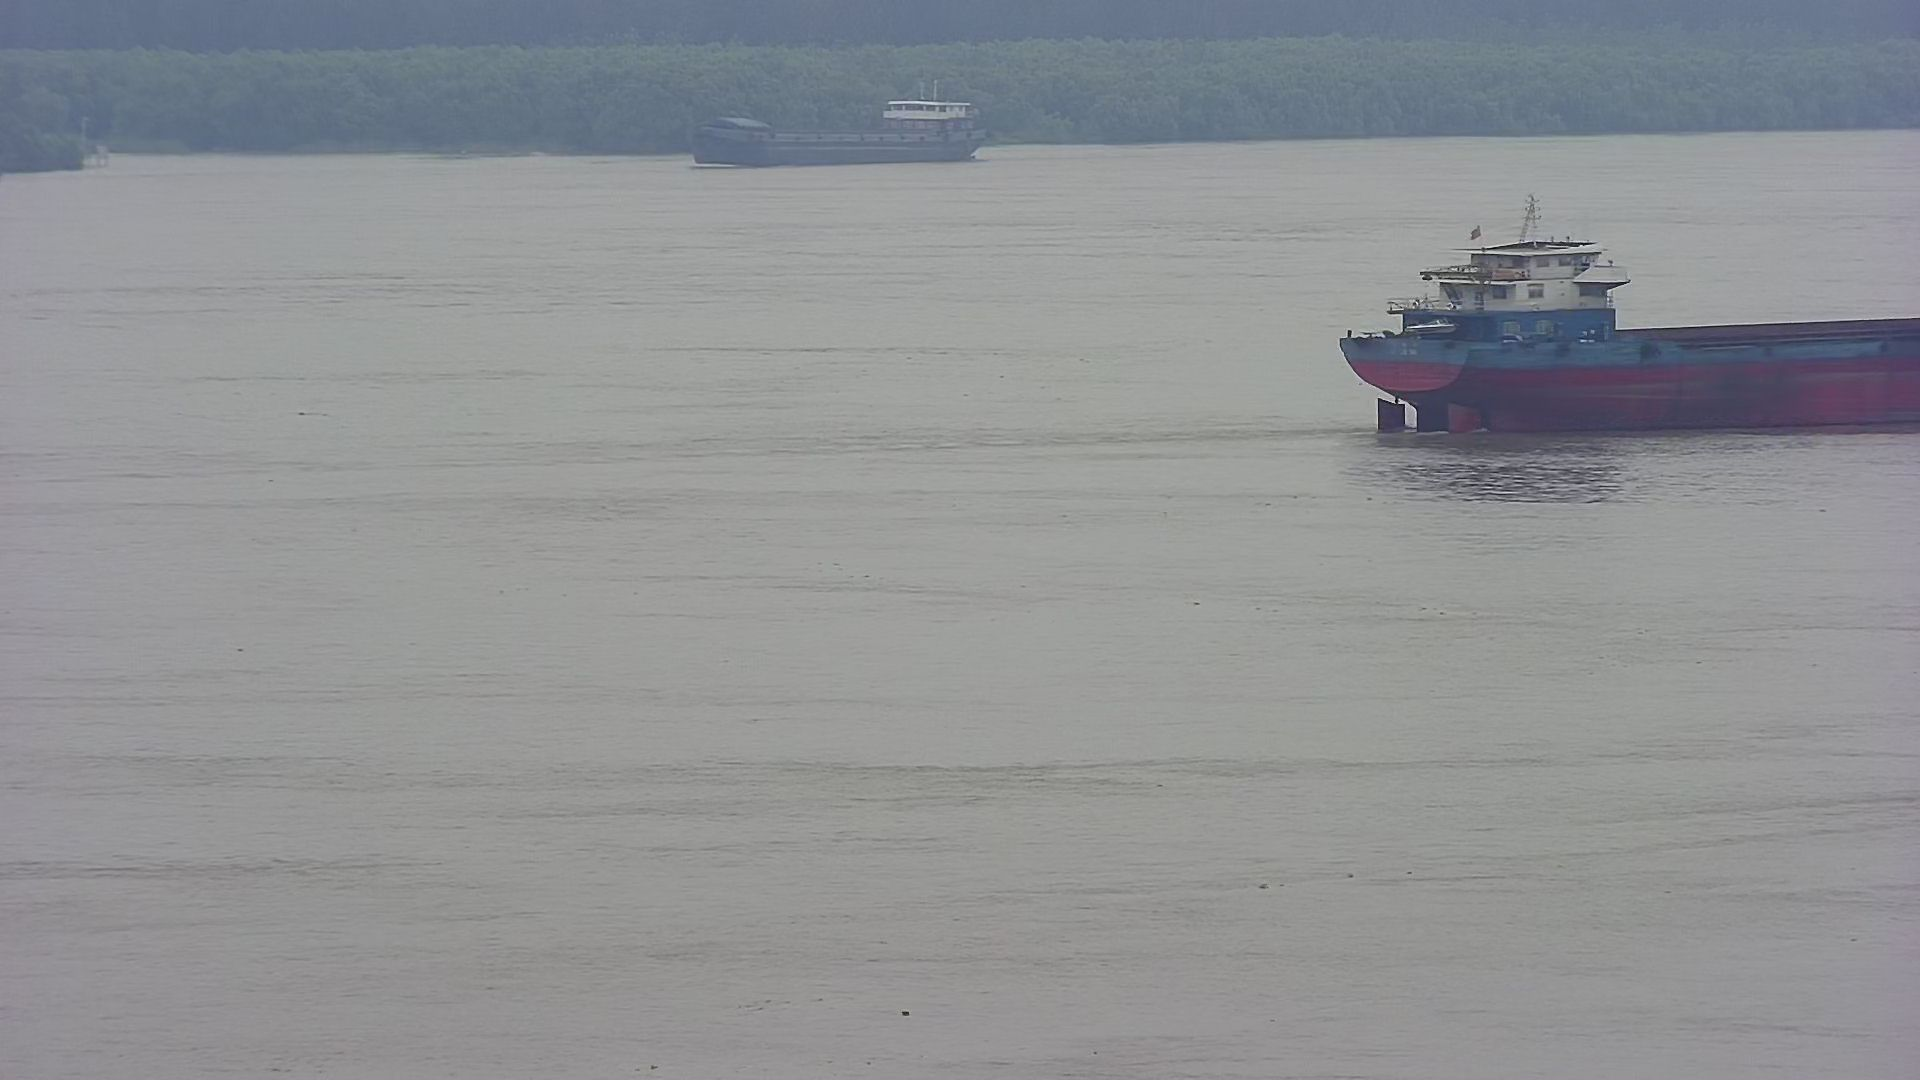ship: (1299, 158, 1920, 459), (684, 76, 993, 171)
